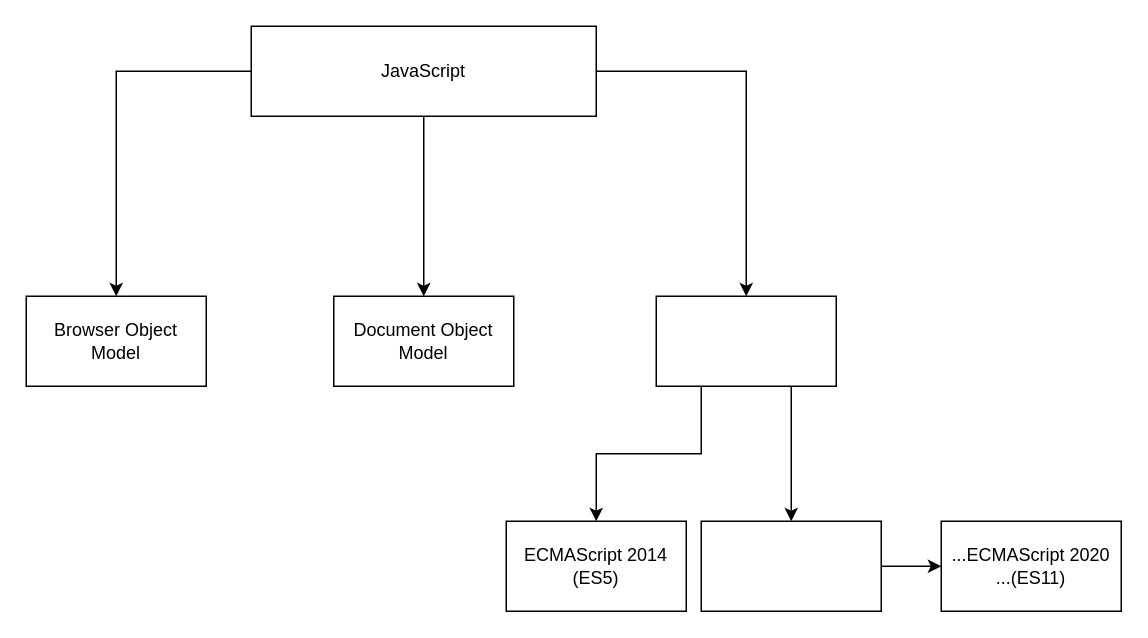
Image size: 1148x638. Some labels were removed from this diagram. The shapes that lost their labels are listed below. From the top down, each one's centre as x and y in pixels, then its label:
At (x=745, y=340): "ECMAScript".
At (x=790, y=565): "ECMAScript 2015 (ES6)".
